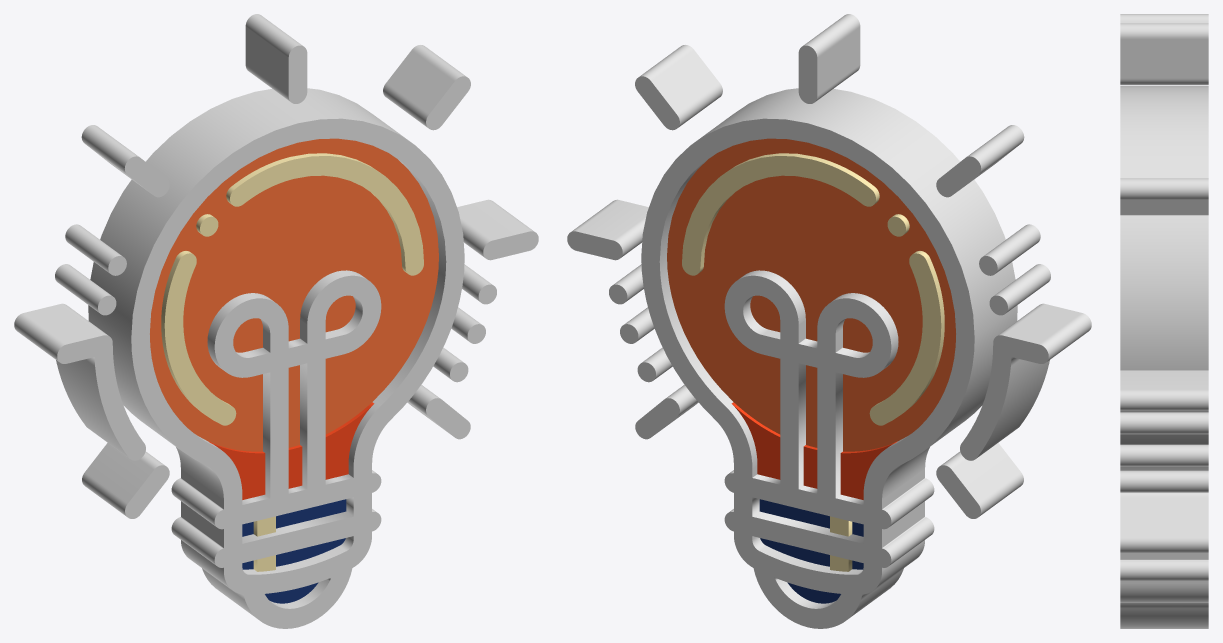
File: BaseBall.fbx
The picture shows the model from 3 angles, left to right: view 1: azimuth 30°, elevation 25°; view 2: azimuth 150°, elevation 25°; view 3: azimuth 270°, elevation 25°; orthographic projection. The views are drawn at different scales.
Visible parts, largest first — view 1: BaseBall, Curve.001, 边缘, Curve.005, Curve.002, Curve.003; view 2: BaseBall, Curve.001, 边缘, Curve.005, Curve.002, Curve.003; view 3: BaseBall, 边缘.
Part boxes in pixels (left/top/right/bottom): BaseBall: left=14, top=14, right=538, bottom=628; Curve.001: left=150, top=138, right=438, bottom=451; 边缘: left=55, top=45, right=496, bottom=518; Curve.005: left=161, top=153, right=423, bottom=571; Curve.002: left=208, top=402, right=374, bottom=499; Curve.003: left=242, top=499, right=346, bottom=603; BaseBall: left=567, top=14, right=1091, bottom=628; Curve.001: left=667, top=138, right=955, bottom=451; 边缘: left=609, top=45, right=1050, bottom=518; Curve.005: left=682, top=153, right=944, bottom=571; Curve.002: left=731, top=402, right=897, bottom=499; Curve.003: left=759, top=499, right=863, bottom=603; BaseBall: left=1120, top=23, right=1208, bottom=628; 边缘: left=1120, top=14, right=1208, bottom=552.
Size of the model in its own units: 50.96 by 58.81 by 7.89.
